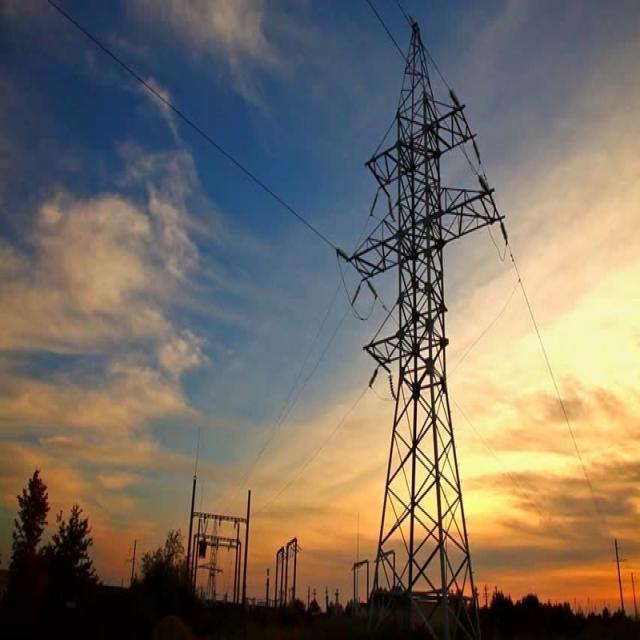non-critical vegetation: (358, 76, 514, 624)
